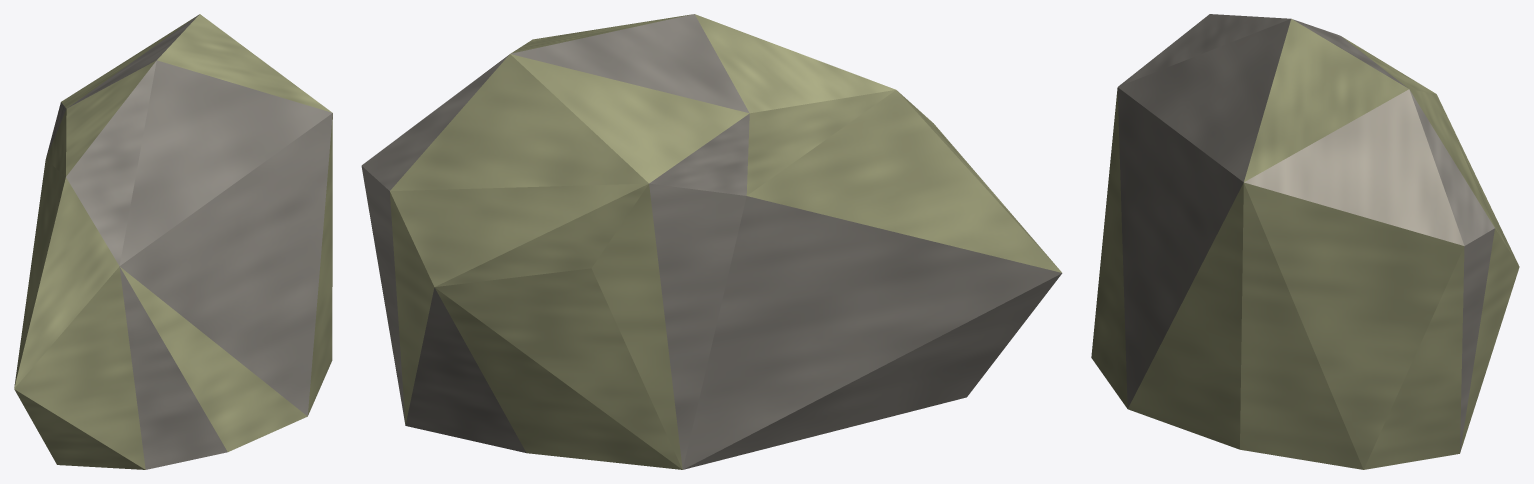
File: rock_small_04.fbx
3 views of the same model, side by side, from view 1: azimuth 30°, elevation 25°; view 2: azimuth 150°, elevation 25°; view 3: azimuth 270°, elevation 25° (orthographic). The views are drawn at different scales.
Parts seen in each view (by area): view 1: rock_small_04; view 2: rock_small_04; view 3: rock_small_04.
Boxes of the visible parts, x1,y1,x2,y2 form: rock_small_04: (14,14,332,469); rock_small_04: (361,14,1062,469); rock_small_04: (1091,14,1519,469).
Size of the model in its own units: 0.6416 by 0.4719 by 0.5235.
